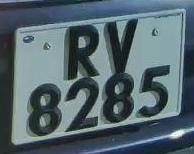2: (61, 72, 103, 135)
5: (136, 58, 173, 122)
8: (24, 75, 65, 140), (102, 67, 137, 128)
R: (58, 21, 105, 84)
V: (100, 16, 144, 79)
